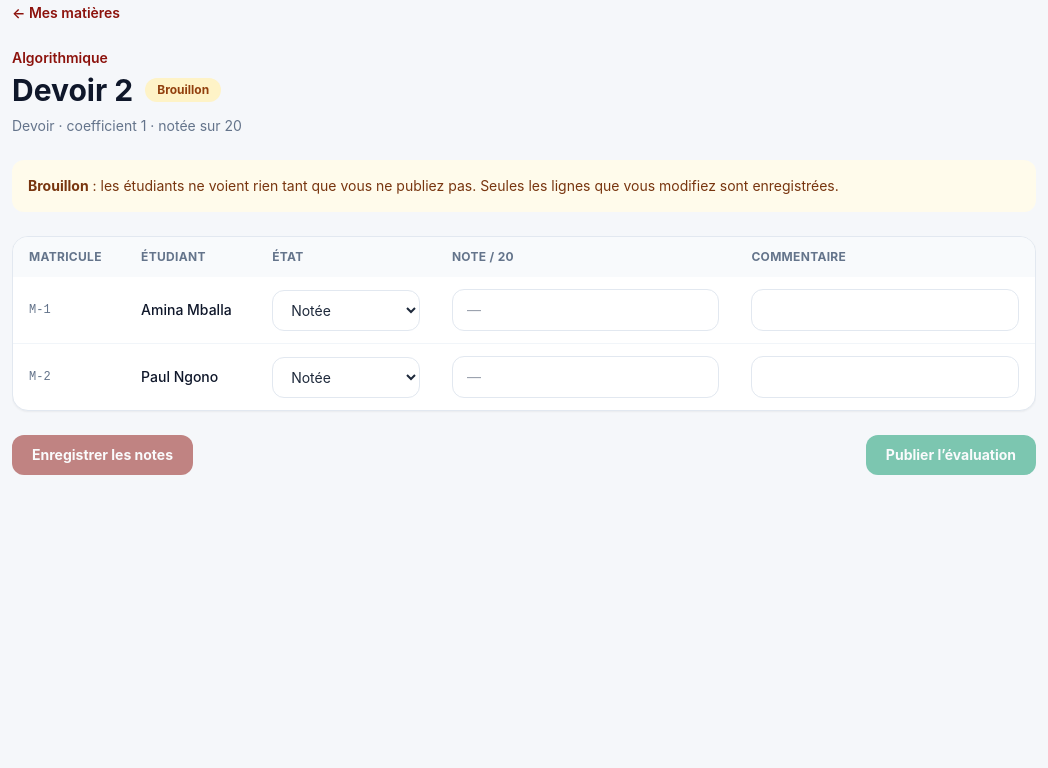
Test case: grille de saisie des notes (brouillon) › valide côté client : note hors barème ou invalide, aucune requête envoyée
Type "25" into the field named "Note de Amina Mballa" at (586, 310), box [452,289,719,331]
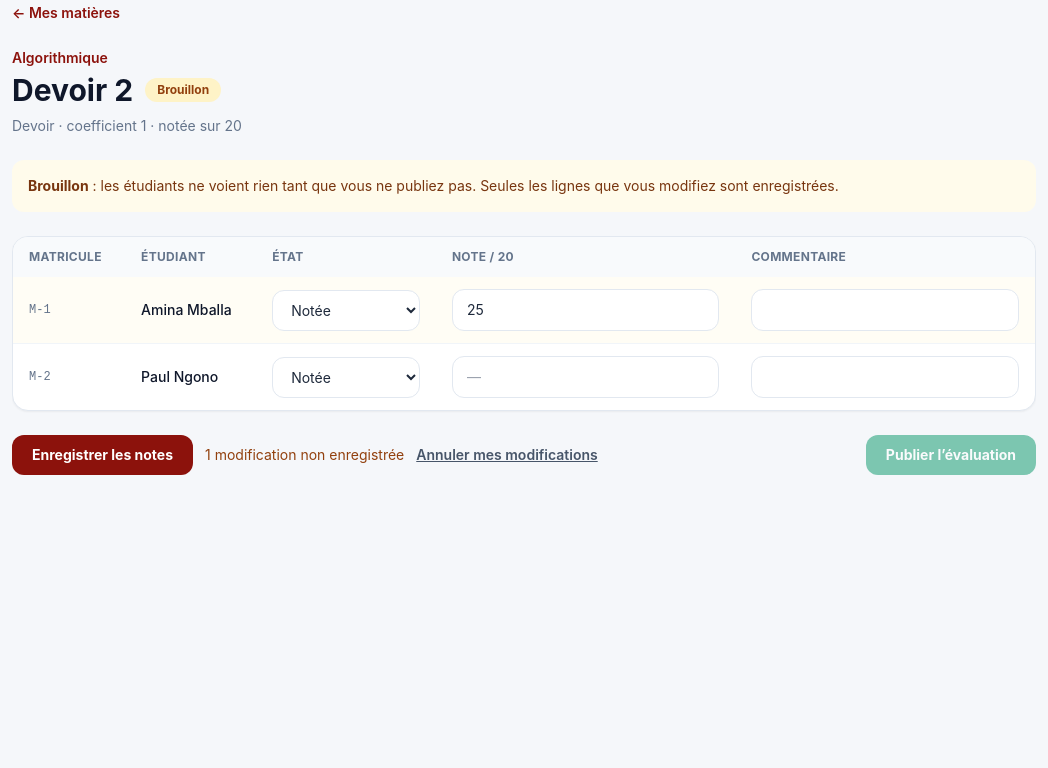
Type "abc" into the field named "Note de Paul Ngono" at (586, 377), box [452,356,719,398]
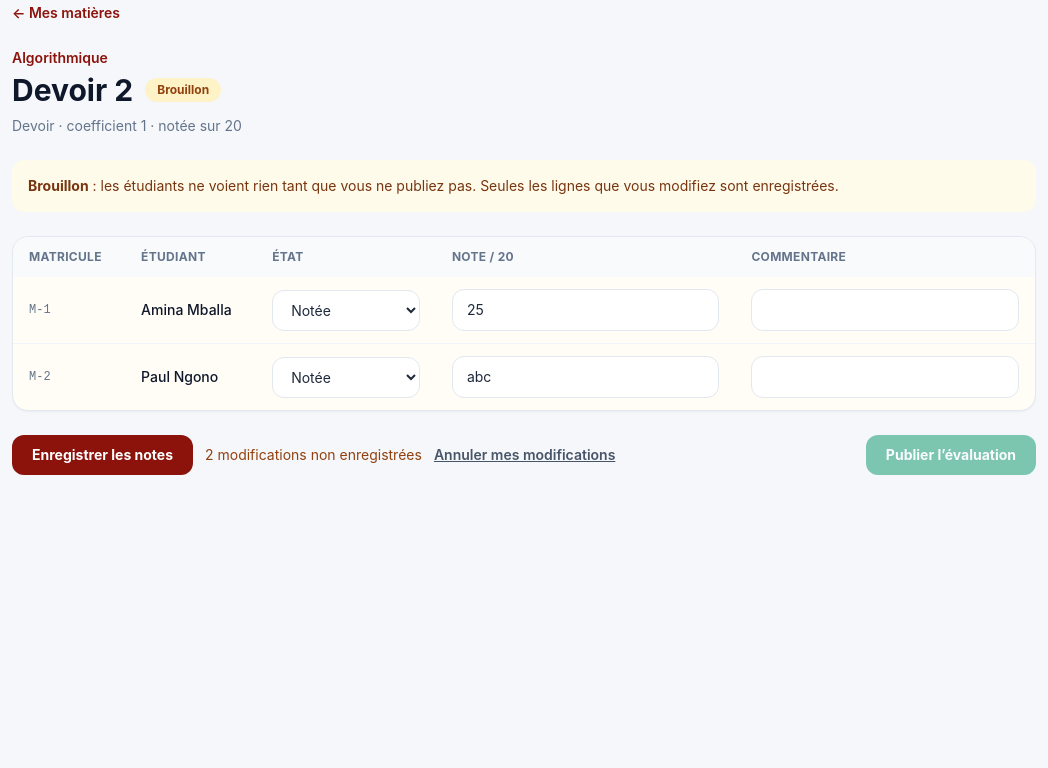
Click the button "Enregistrer les notes" at (102, 455), box [12,435,193,475]
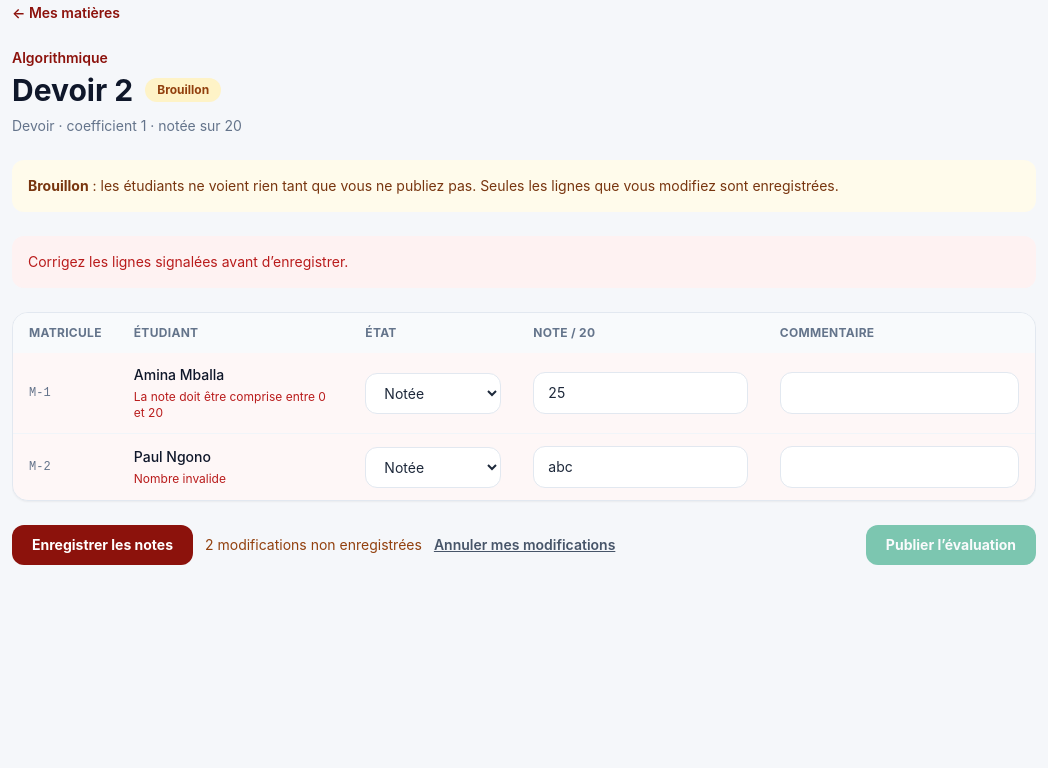
Result: the message "La note doit être comprise entre 0 et 20" is shown at [134,389,333,421]
Result: the message "Nombre invalide" is shown at [134,471,226,486]
